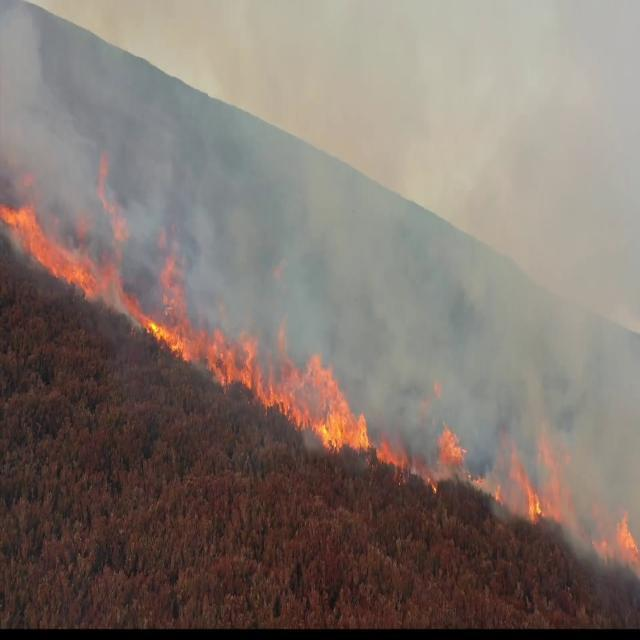Fire: (155, 219, 254, 397), (279, 316, 370, 457), (1, 197, 103, 307)
Smoke: (468, 116, 640, 424), (0, 0, 95, 187)
